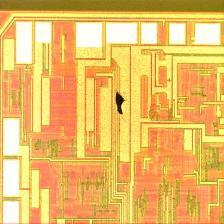PARTICLE: (115, 93, 128, 116)
